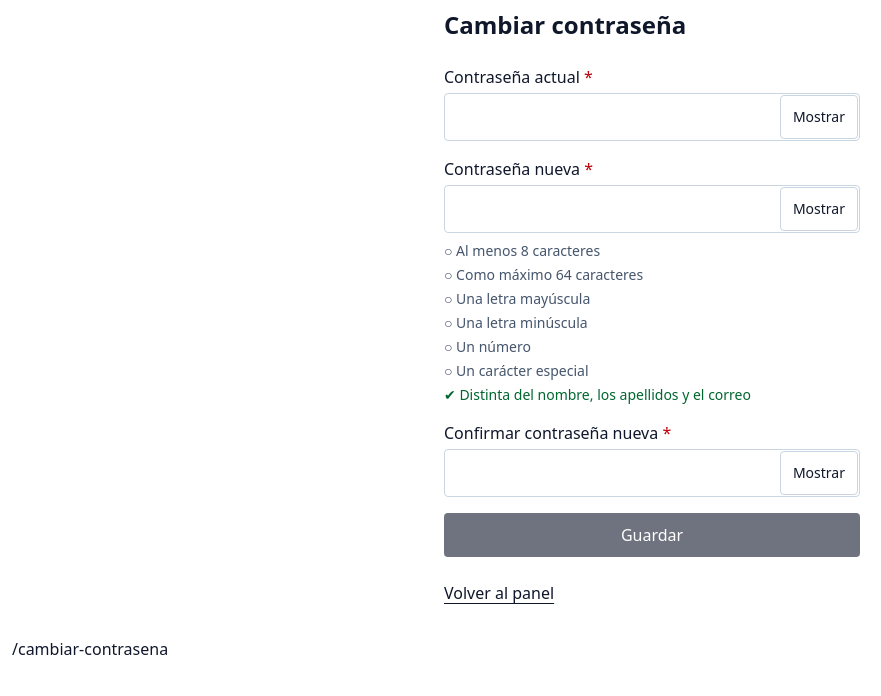
Scenario: ChangePasswordPage › avisa cuando la contraseña actual no coincide (US7 esc. 2)
Type "mala" into the password field labelled "Contraseña actual *" at coordinates (652, 117), box [444,93,860,141]
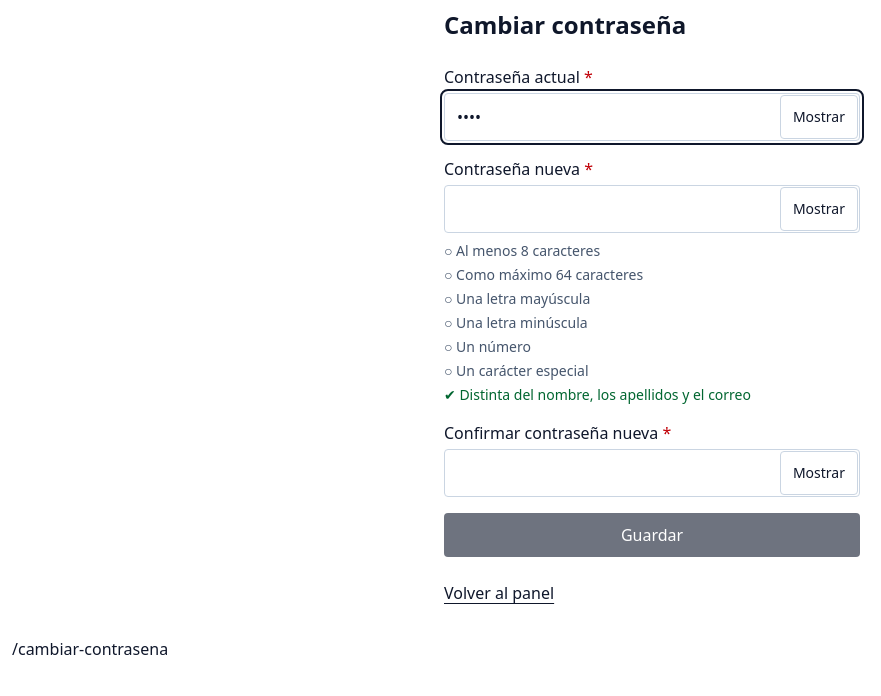
Type "Nueva.2026" into the password field labelled "Contraseña nueva *" at coordinates (652, 209), box [444,185,860,233]
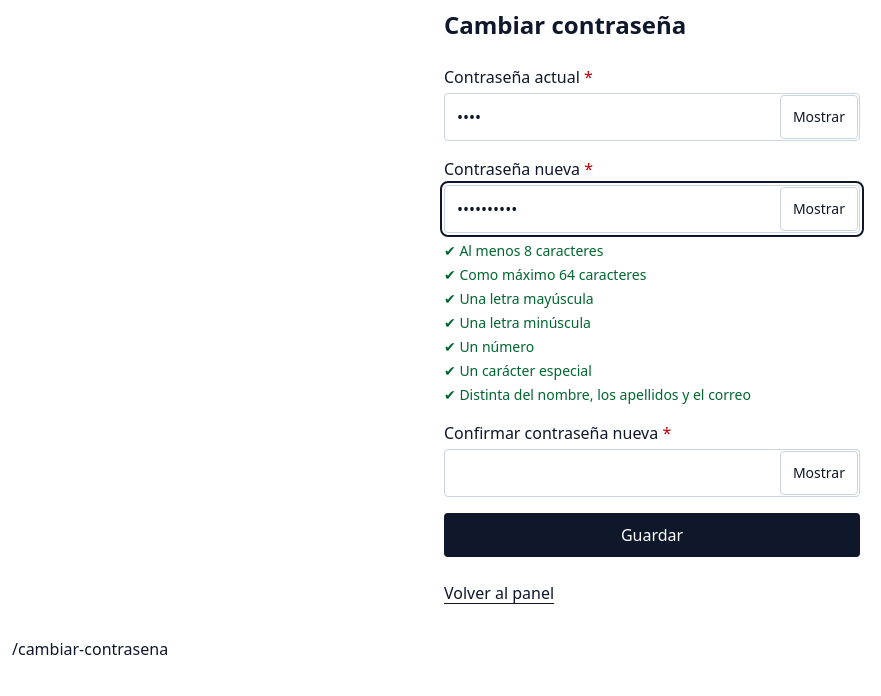
Type "Nueva.2026" into the password field labelled "Confirmar contraseña nueva *" at coordinates (652, 473), box [444,449,860,497]
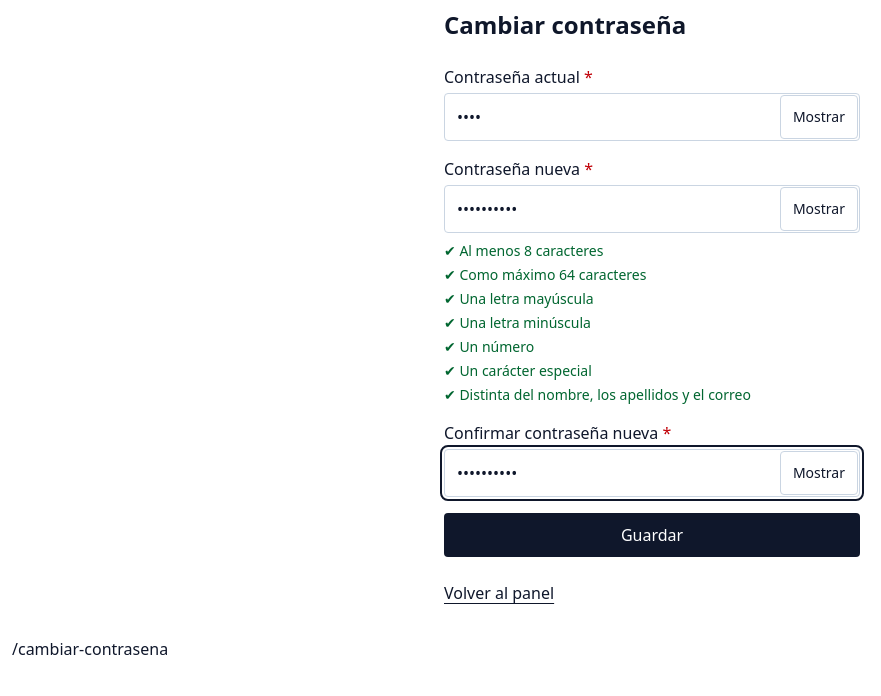
Click the button "Guardar" at coordinates (652, 535), box [444,513,860,557]
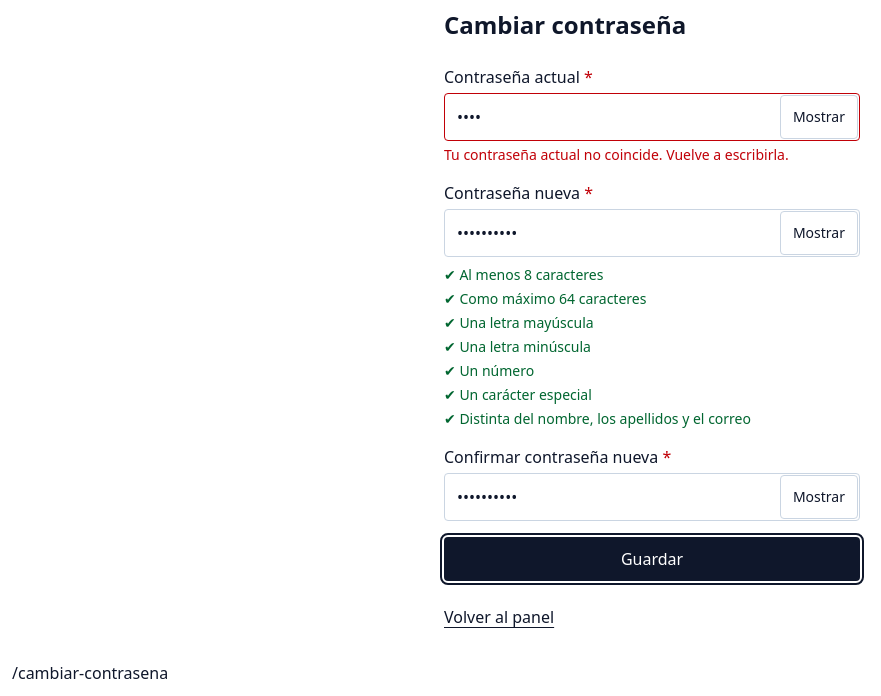
Result: the text "Tu contraseña actual no coincide. Vuelve a escribirla." is shown at [444,145,789,164]
